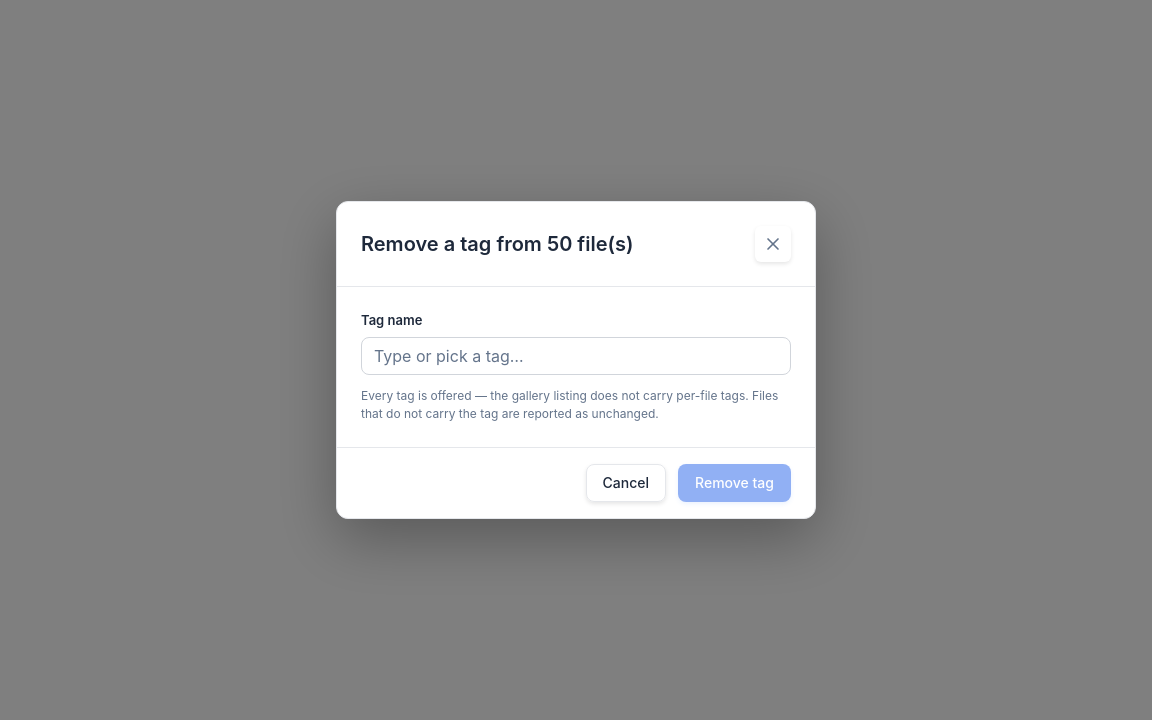
BulkTagModal › reports the files that did not carry a removed tag as unchanged
The width and height of the screenshot is (1152, 720).
Type "roadmap" into the dropdown at (576, 356), box [361, 337, 791, 375]
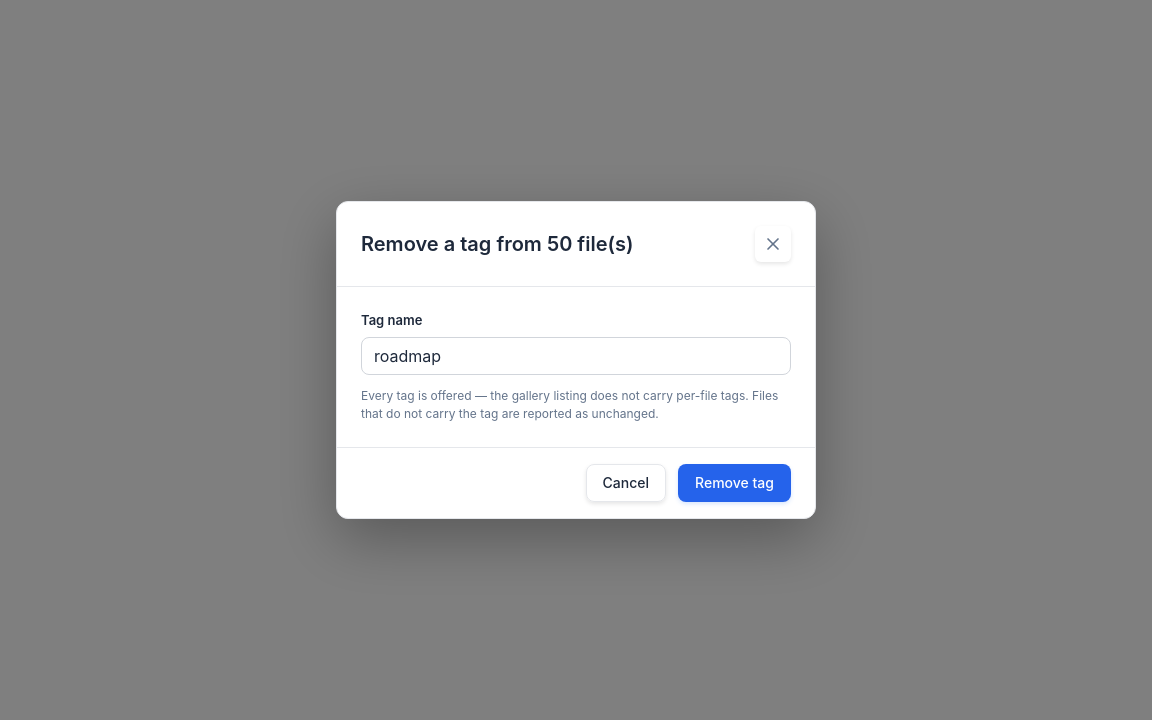
Click the button "Remove tag" at (735, 483), box [678, 464, 791, 502]
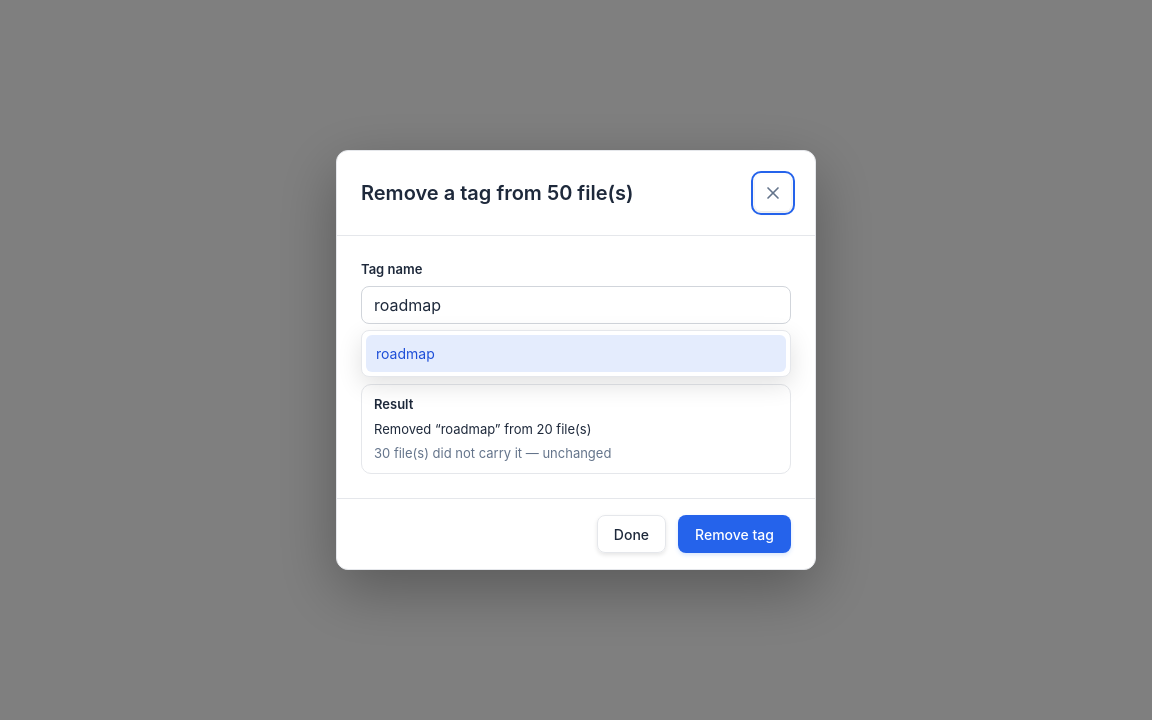
Check: the list item "Removed “roadmap” from 20 file(s)" is shown, box [374, 421, 591, 437]
Check: the list item "30 file(s) did not carry it — unchanged" is shown, box [374, 444, 611, 460]
